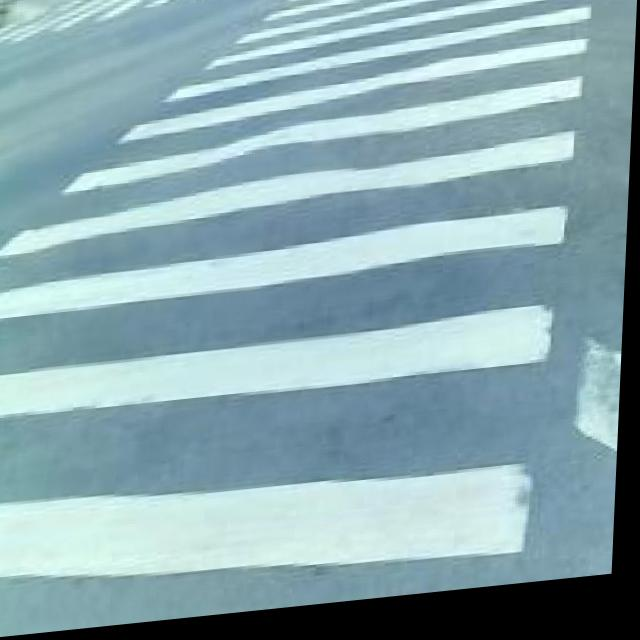zebra: (266, 0, 568, 615)
